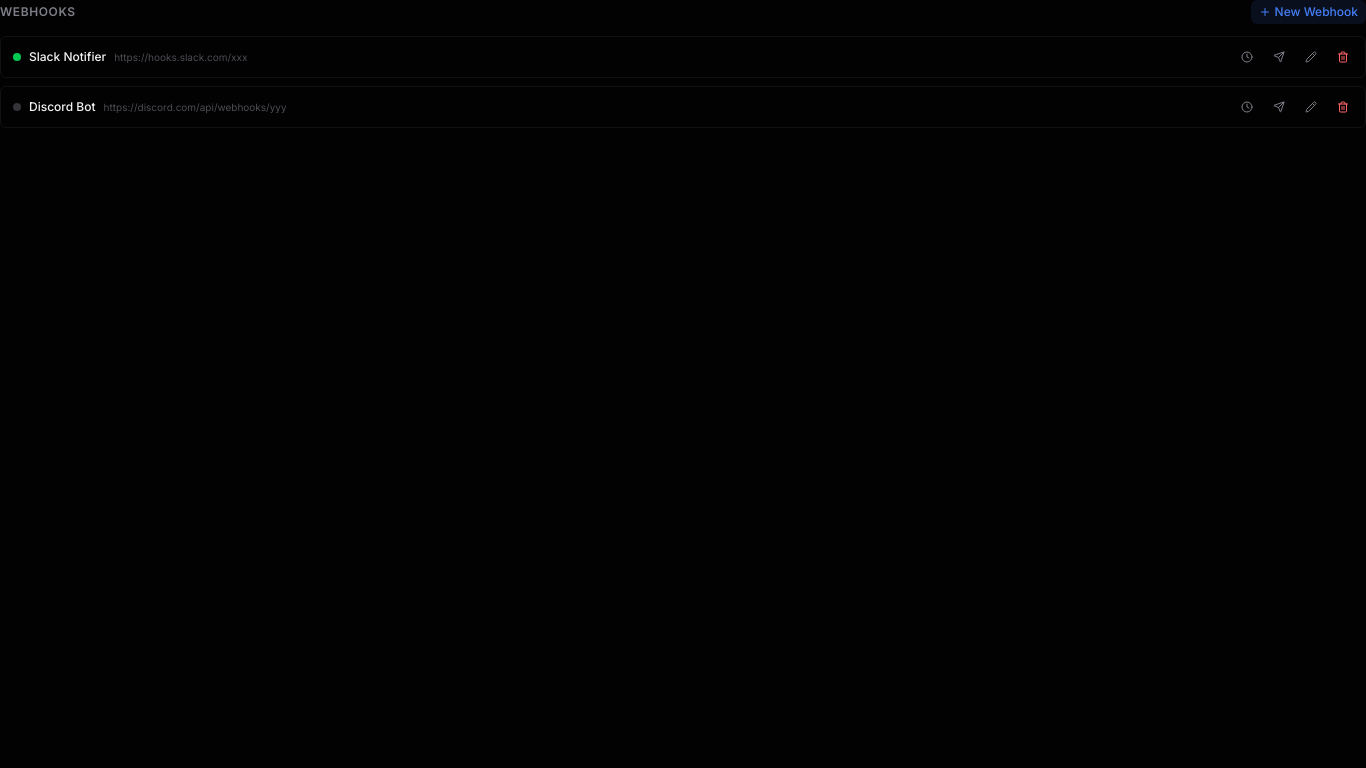
WebhookSettings › opens edit form with pre-filled data
Expected: the text "Slack Notifier" is shown, x1=29 y1=49 x2=106 y2=65
Click the 1st button titled "Edit": (1311,57) x1=1301 y1=47 x2=1321 y2=67
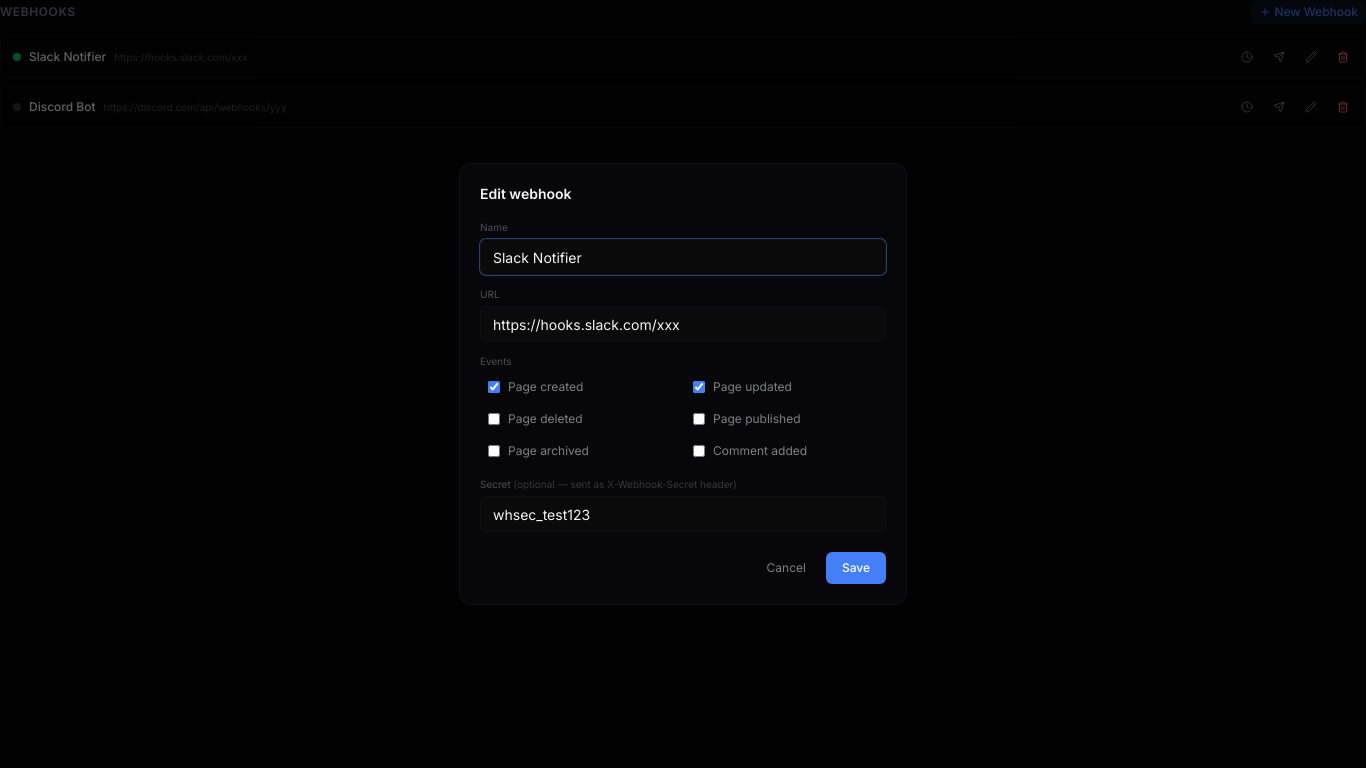
Expected: the heading "Edit webhook" is shown, x1=480 y1=185 x2=572 y2=202
Expected: the field with placeholder "My webhook" below "Name" holds "Slack Notifier", x1=480 y1=239 x2=886 y2=275
